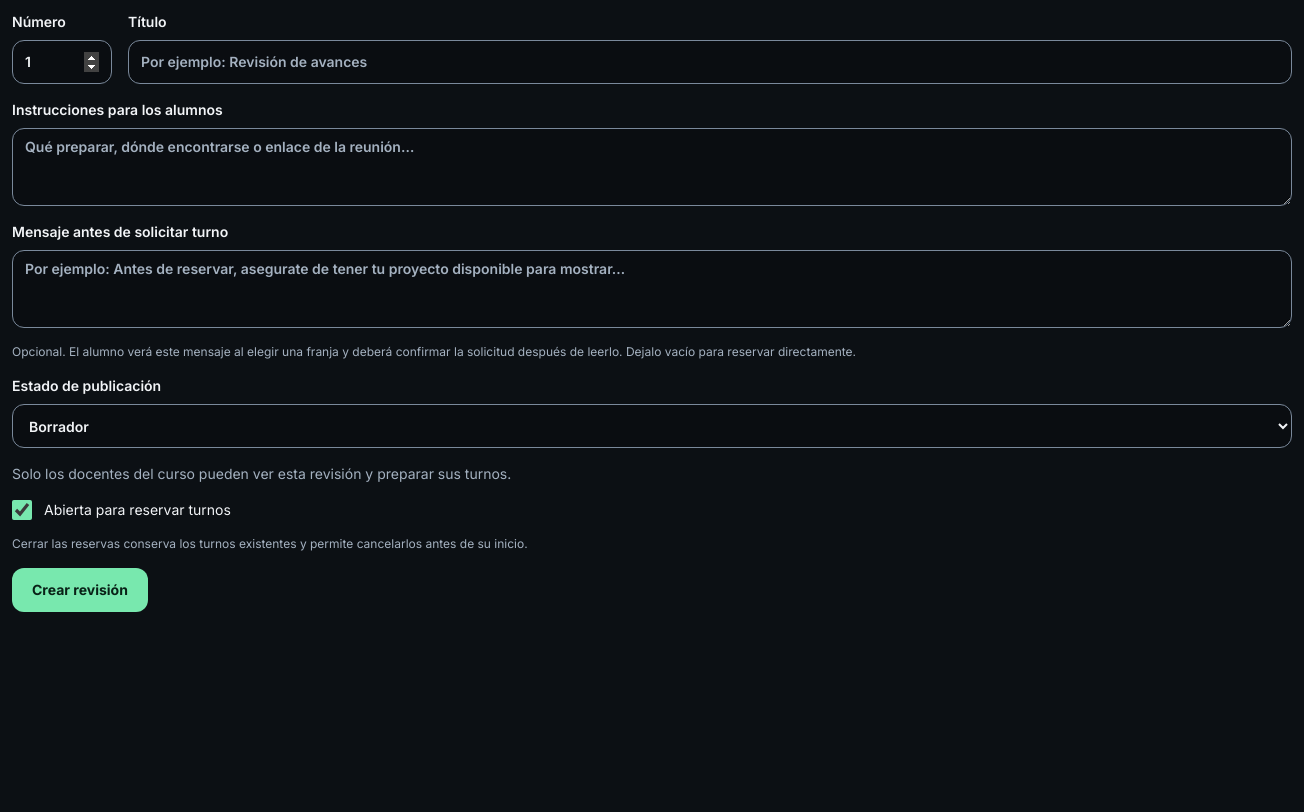
Test case: formularios de revisiones › crea en borrador aunque las reservas estén abiertas
This screenshot has width=1304, height=812.
Expected: the dropdown labelled "Estado de publicación" shows "Borrador", [12,404,1292,448]
Type "Preparando revisión" into the field labelled "Título" at coordinates (710, 62), box [128,40,1292,84]
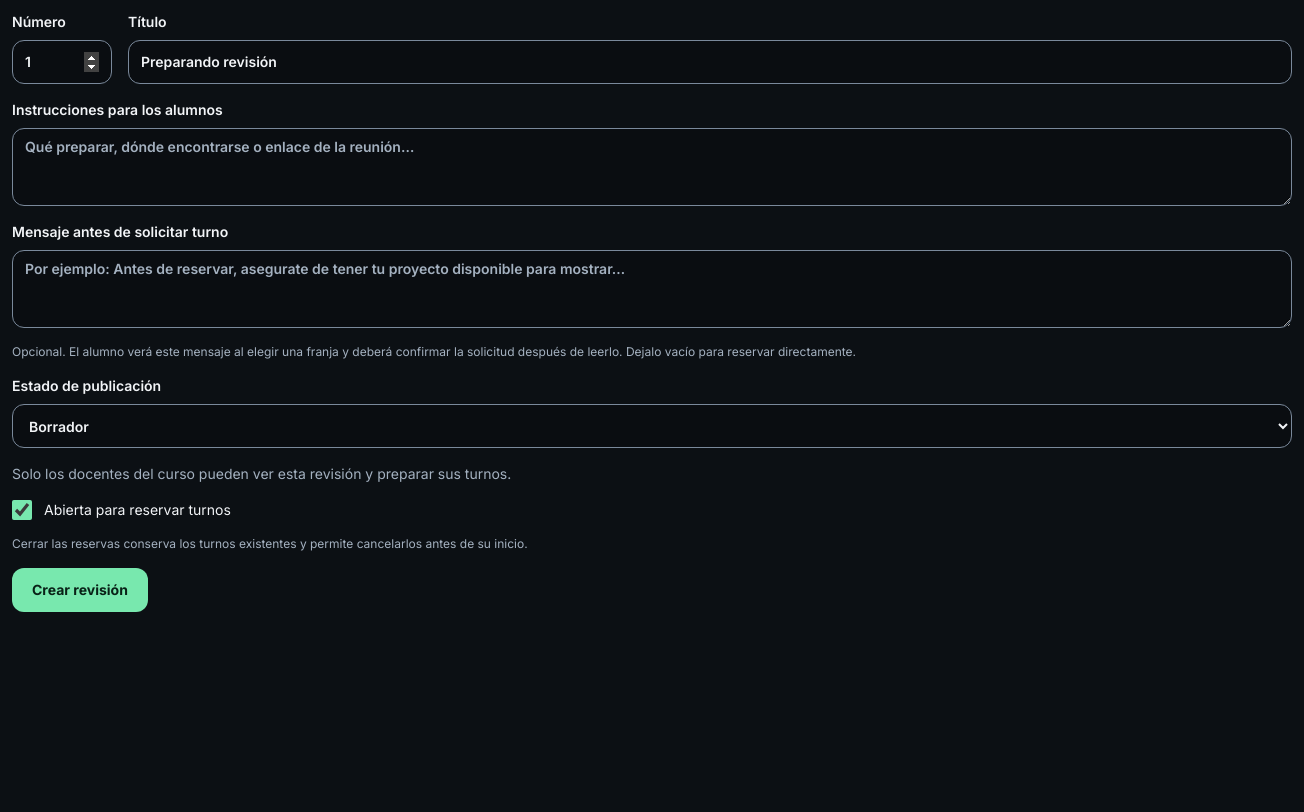
Replace the text in the text box labelled "Mensaje antes de solicitar turno" with "Traé tu proyecto listo para mostrar." at coordinates (652, 289), box [12,250,1292,328]
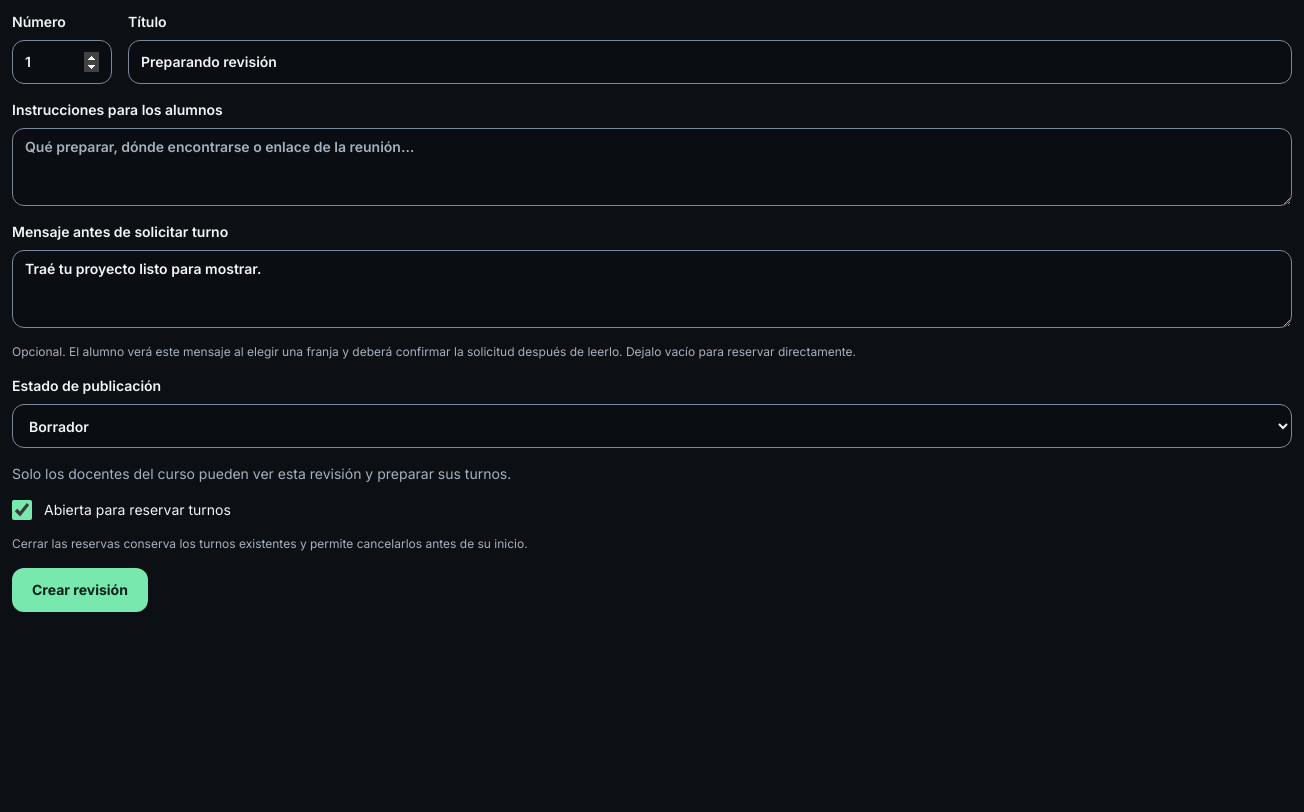
Click the button "Crear revisión" at coordinates (80, 590), box [12,568,148,612]
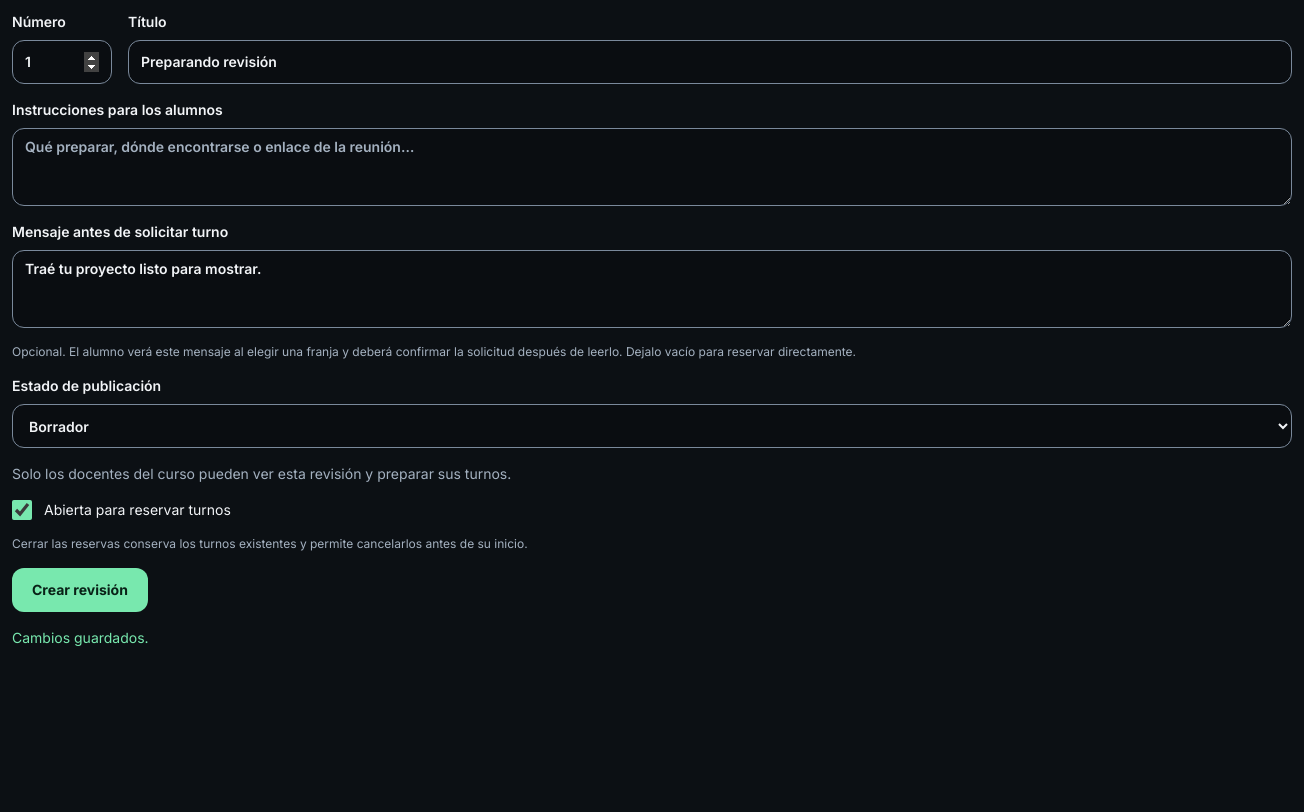
Expected: the text "Cambios guardados." is shown, [12,629,149,646]
